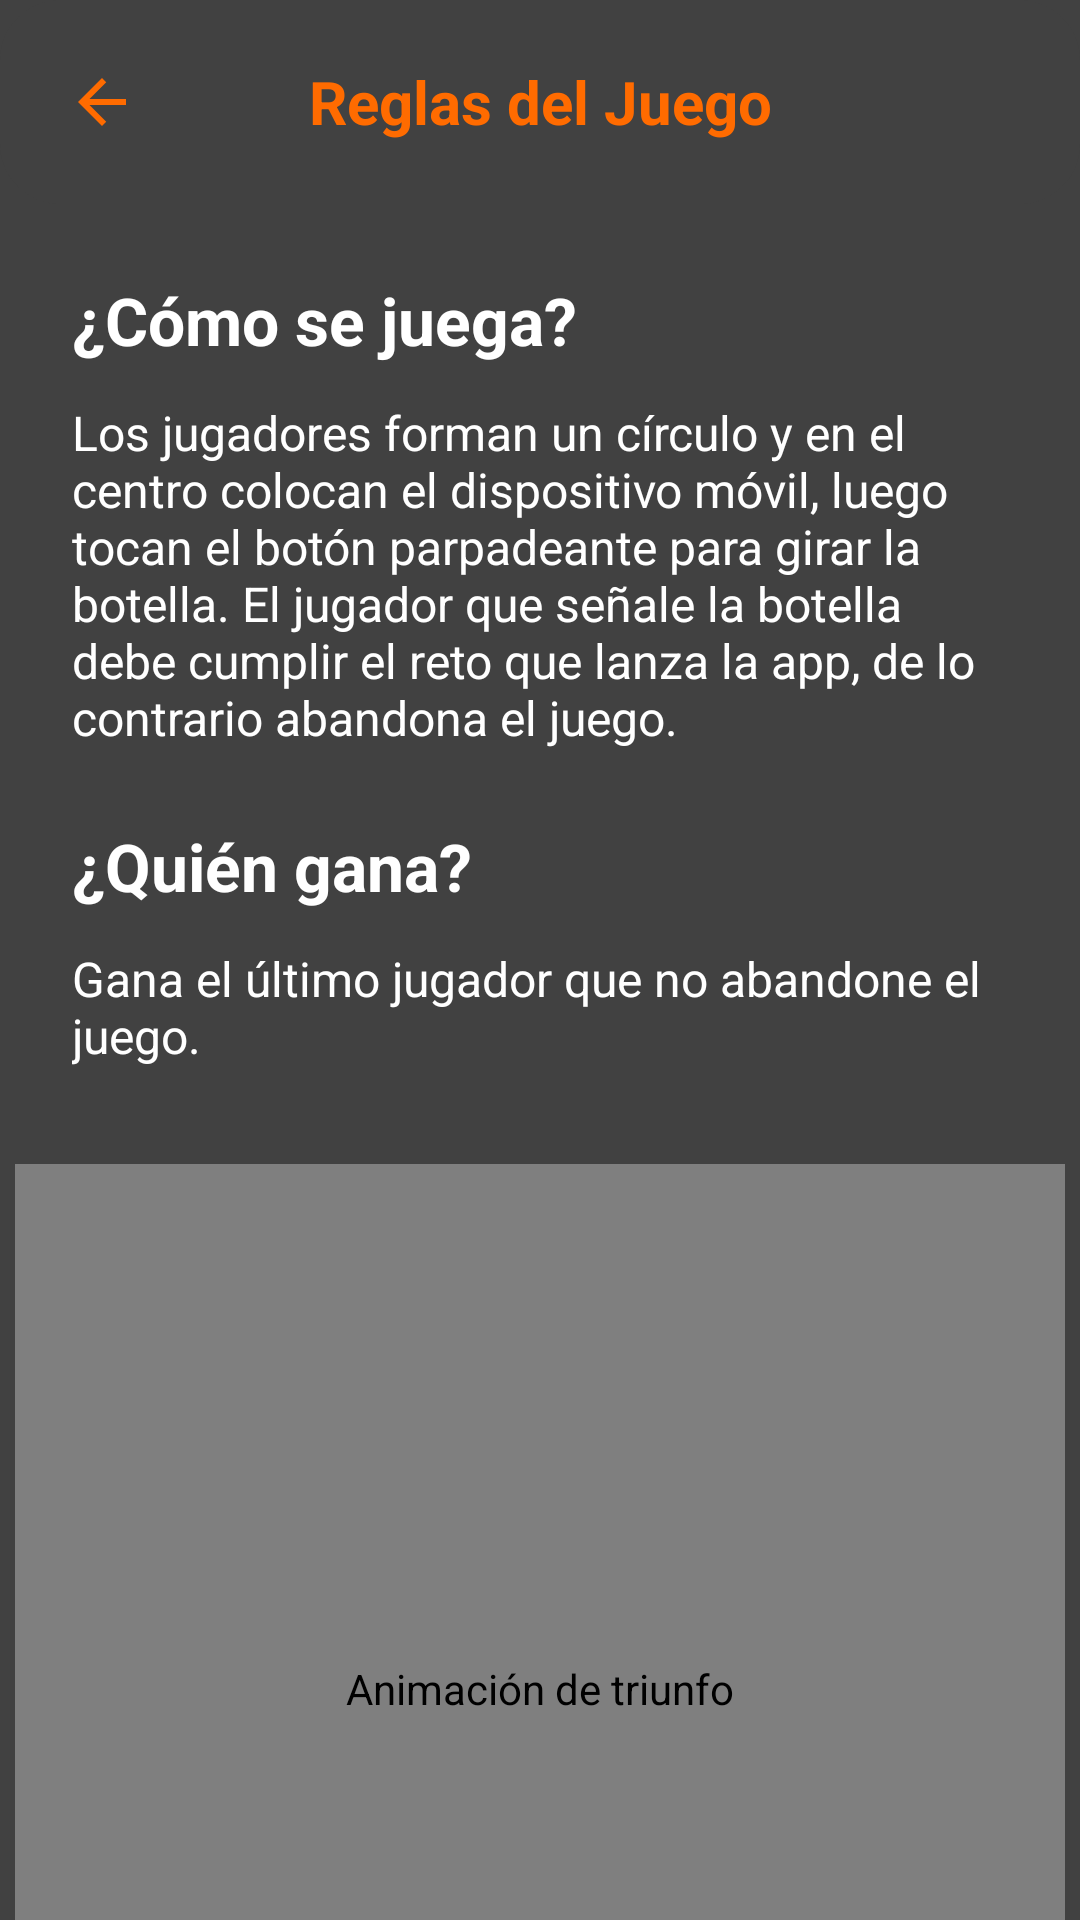

Icons on this 1080w x 1920h Android screen, each with its box as (x1=x1, y1=y1, x2=x2, y2=y2):
Volver: (x1=78, y1=78, x2=126, y2=126)
